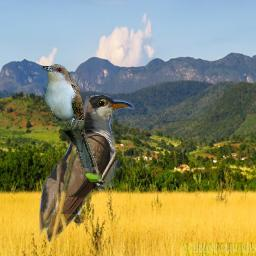Cuckoo: (39, 95, 156, 242), (41, 64, 102, 182)
